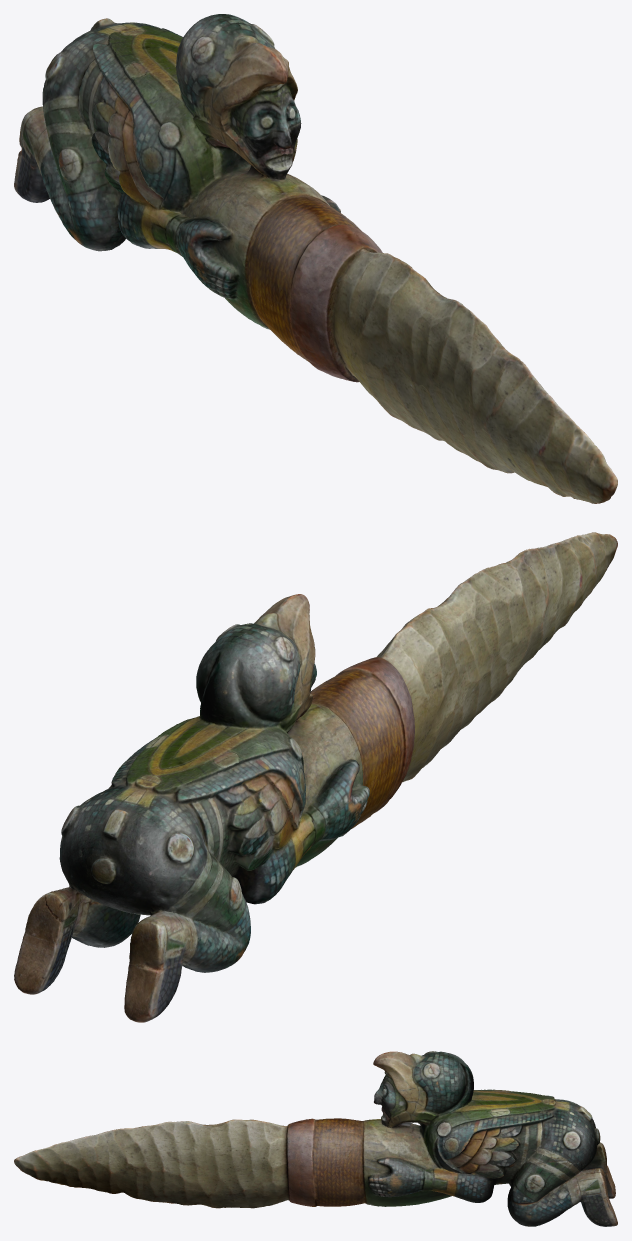
Rendered from knivfigur-transformed.glb.
The picture shows the model from 3 angles, top to bottom: view 1: azimuth 30°, elevation 25°; view 2: azimuth 150°, elevation 25°; view 3: azimuth 270°, elevation 25°; orthographic projection. The views are drawn at different scales.
Visible parts, largest first — view 1: 1944.02.0034 (knivfigur); view 2: 1944.02.0034 (knivfigur); view 3: 1944.02.0034 (knivfigur).
Part boxes in pixels (bbox=[...]): 1944.02.0034 (knivfigur): bbox=[14, 14, 617, 503]; 1944.02.0034 (knivfigur): bbox=[14, 532, 617, 1022]; 1944.02.0034 (knivfigur): bbox=[14, 1051, 617, 1226].
Bounding box in the file's own units: 0.0521 × 0.085 × 0.2967.
1 material, 1 textured.
